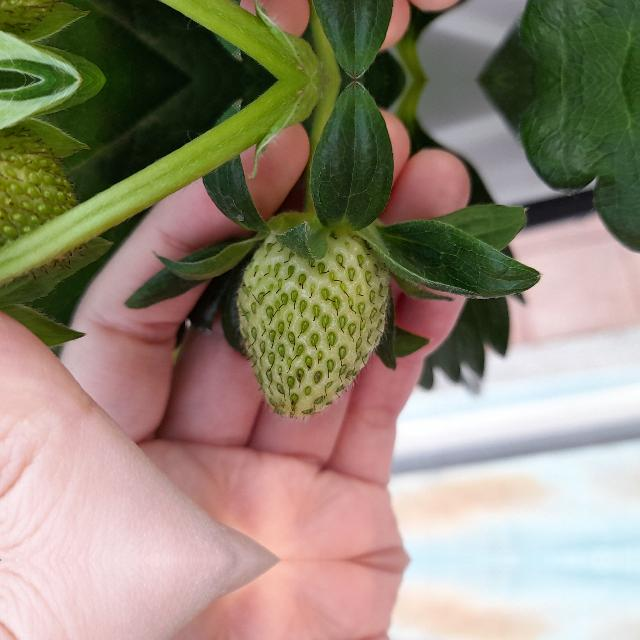Health_25: (234, 223, 390, 421), (0, 116, 90, 284), (0, 0, 90, 44)
